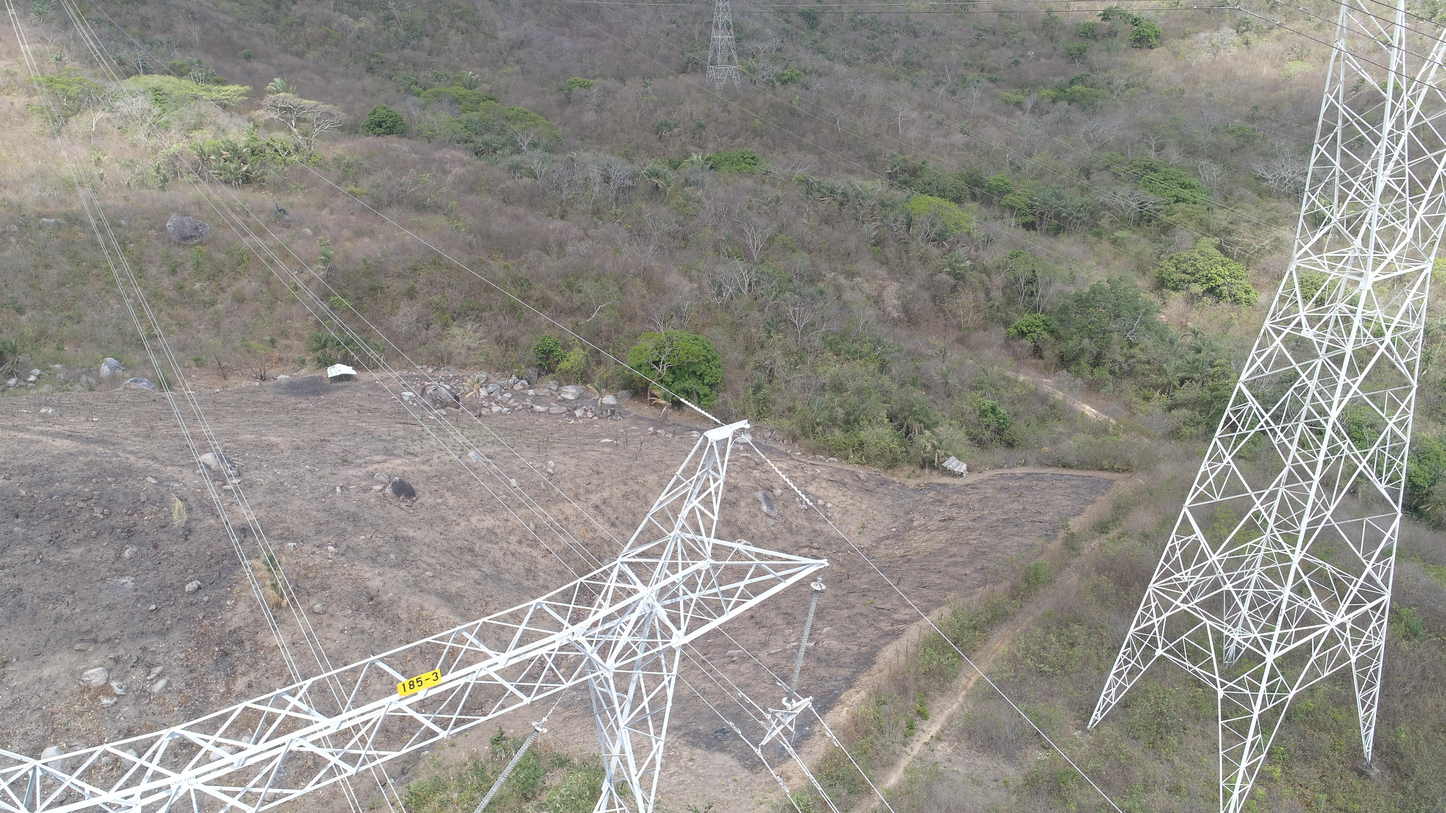power_tower: (2, 420, 831, 813), (1082, 1, 1445, 813), (705, 1, 742, 95)
